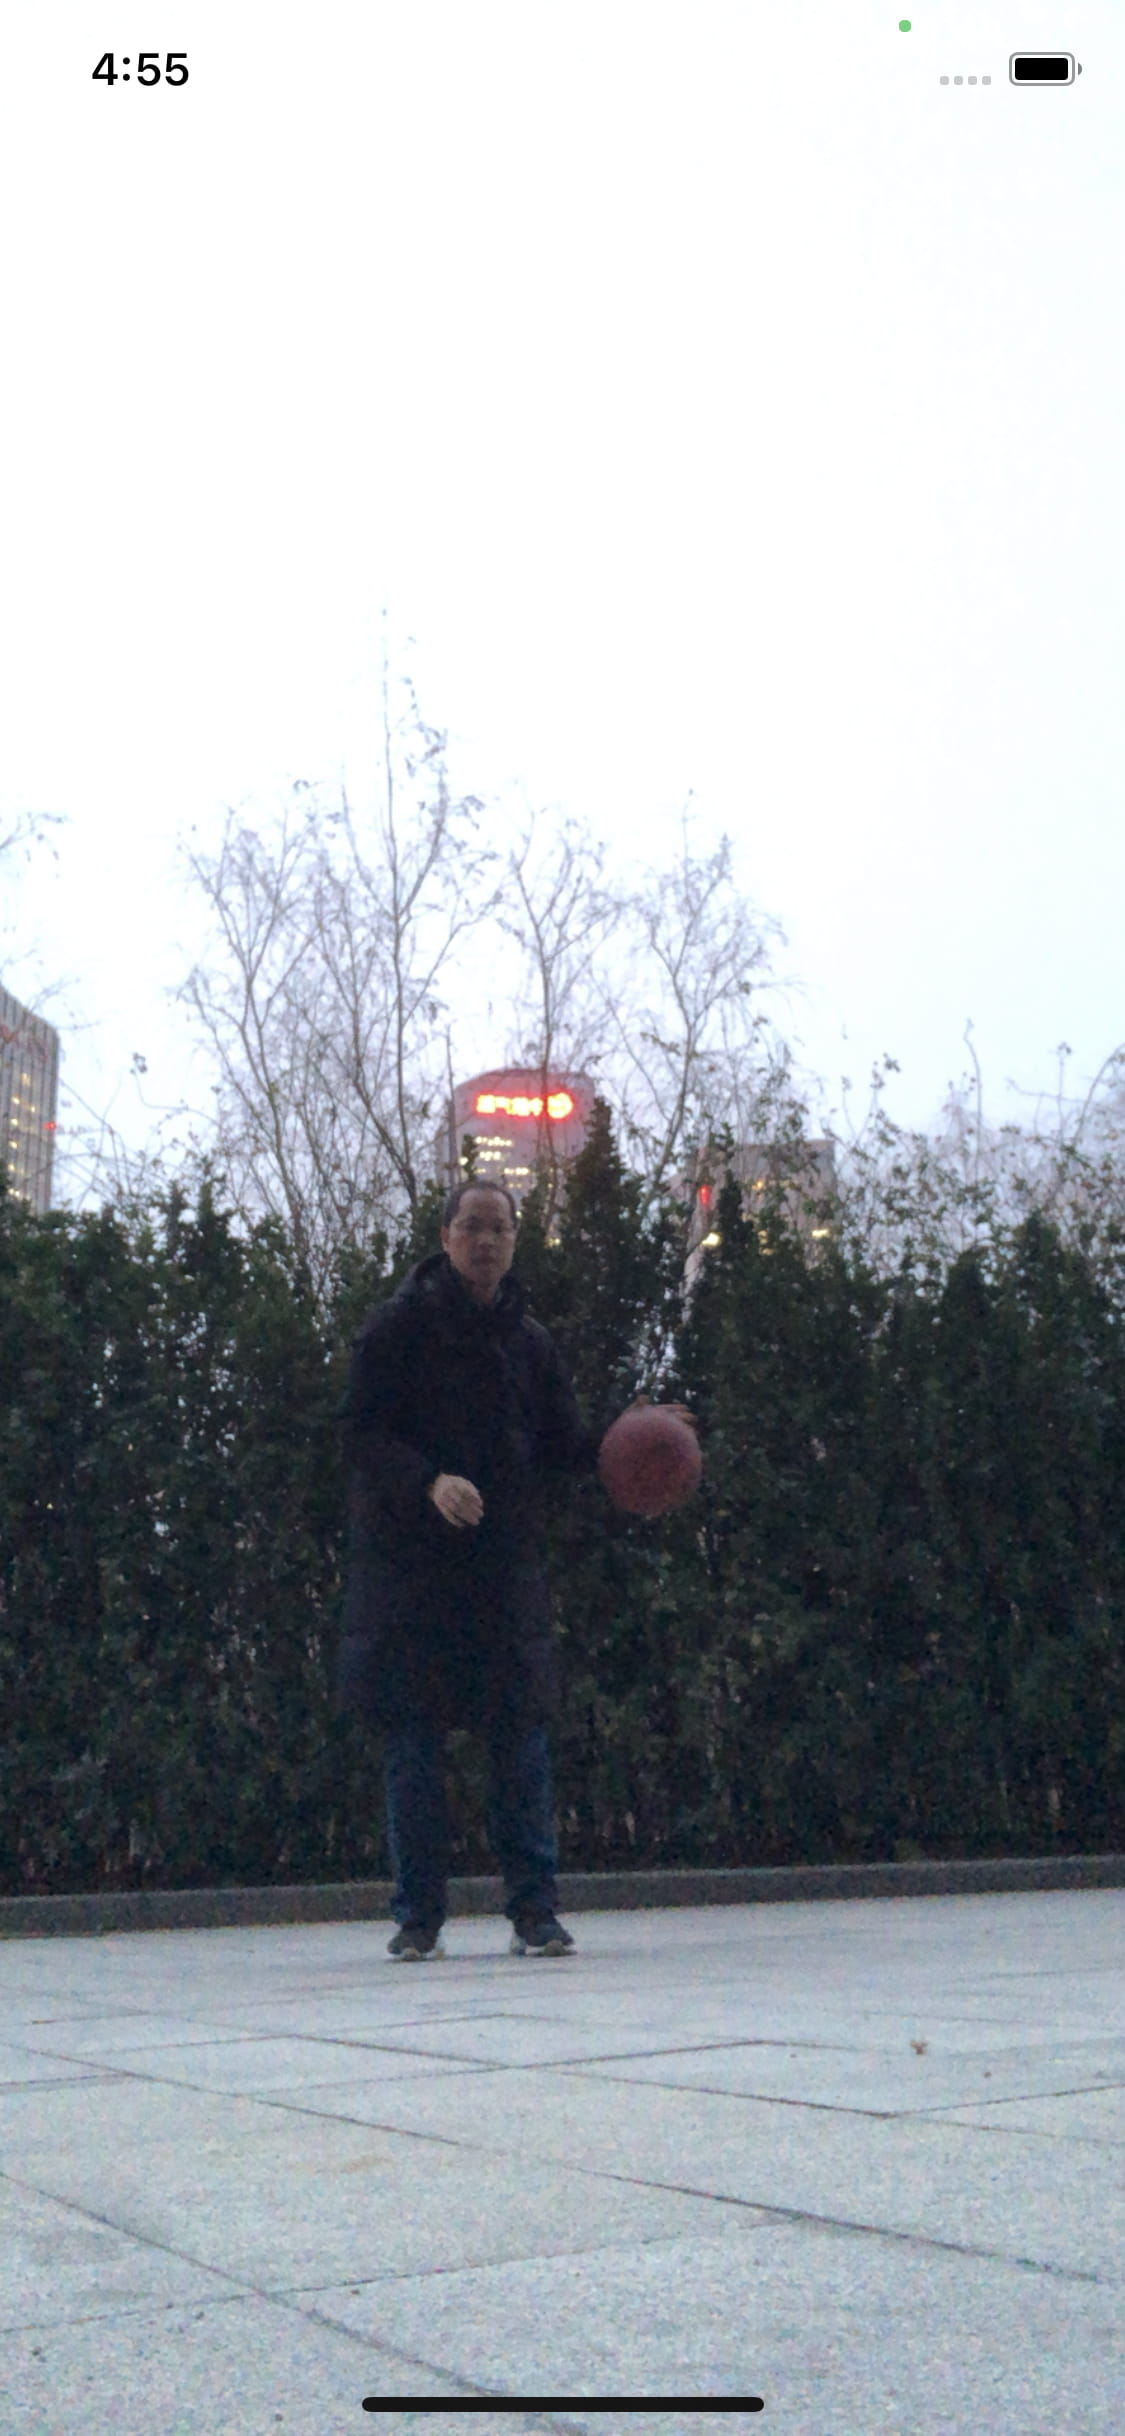ball: (597, 1401, 701, 1515)
